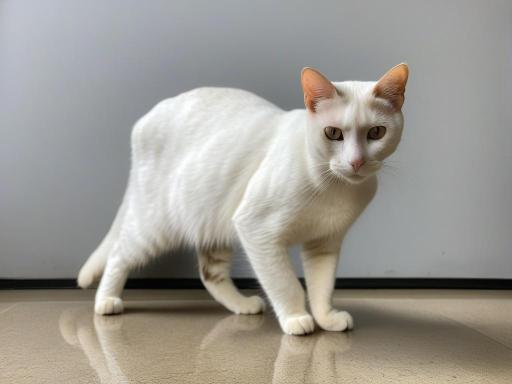cat_standing: (78, 63, 408, 334)
